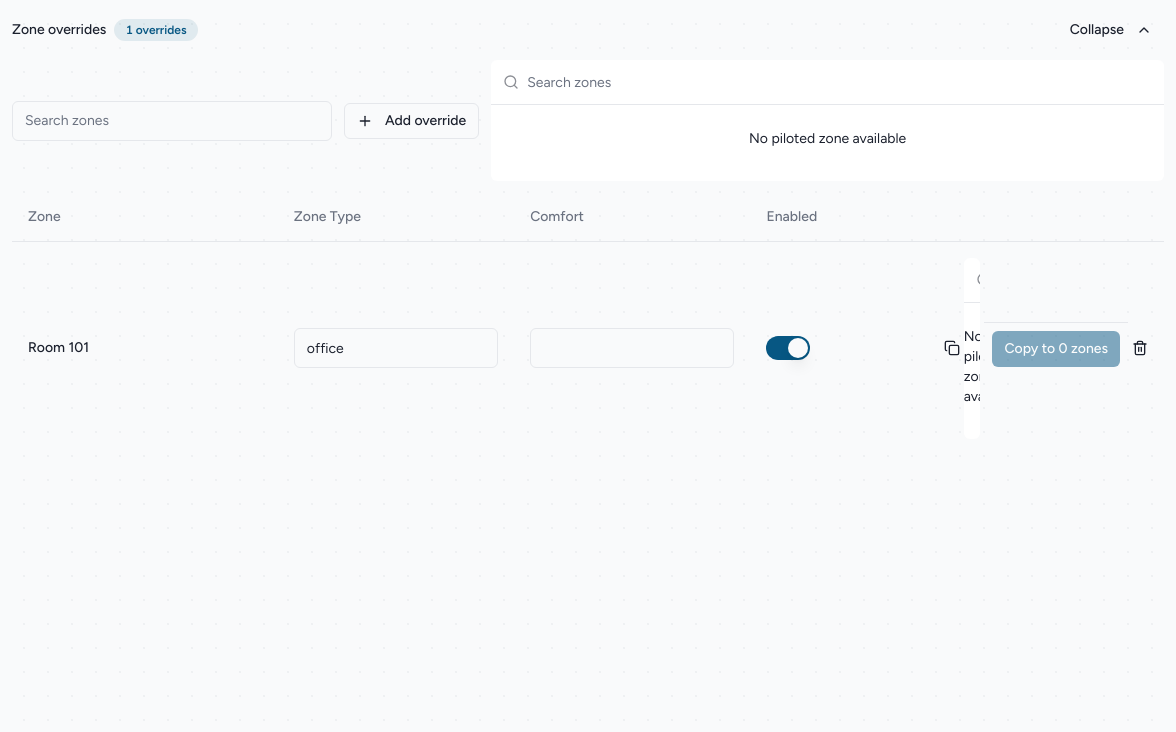
Scenario: ZoneOverridesField › removes a room's override from its row
Click the button named "Remove override" at {"x": 1140, "y": 348}, box [1132,328,1148,368]
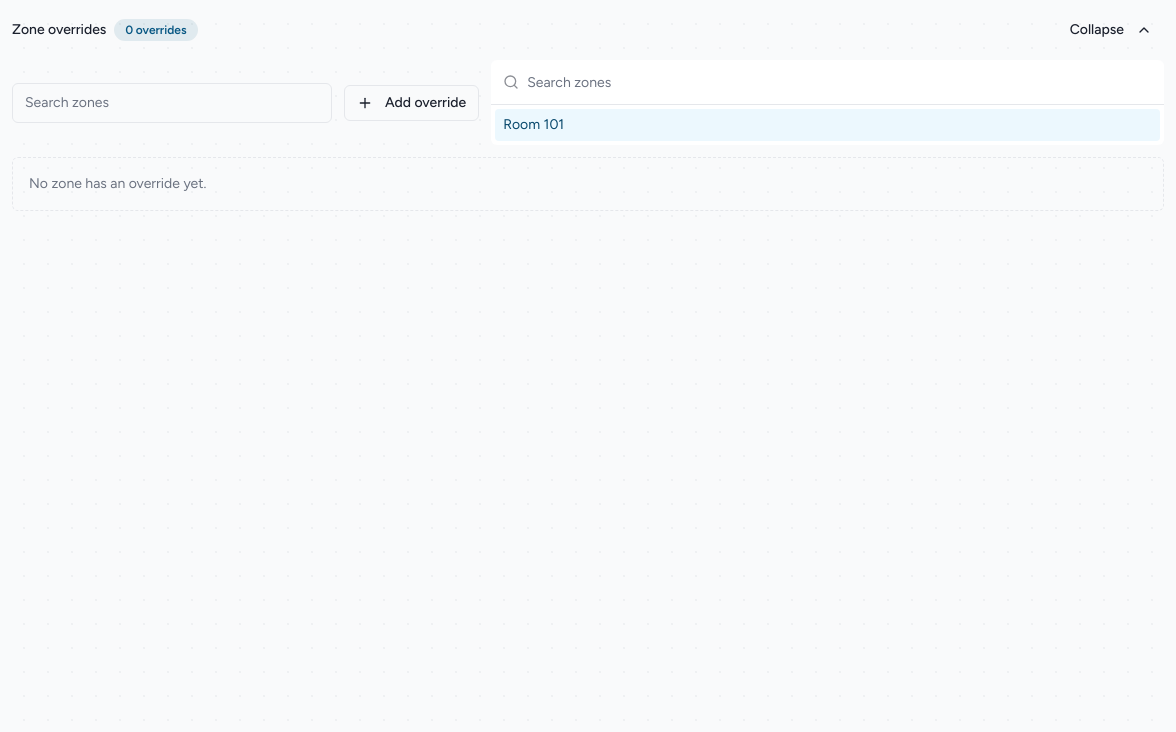
Check: the table is gone
